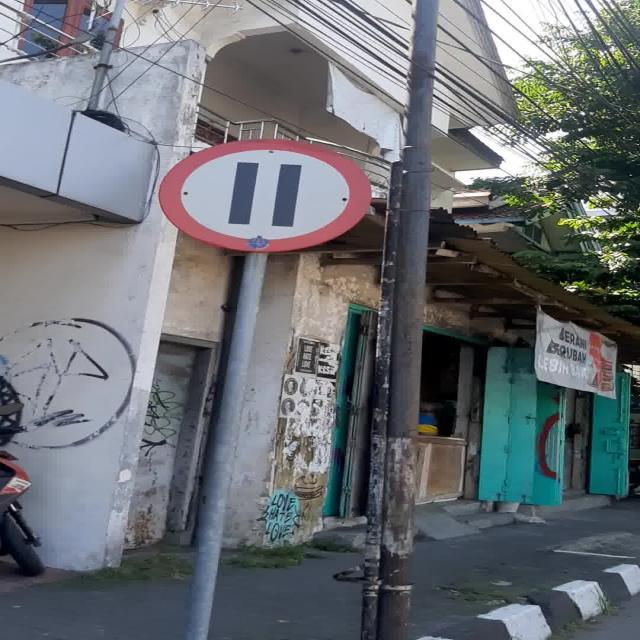Larangan Muatan - 10 ton: (158, 139, 370, 252)
